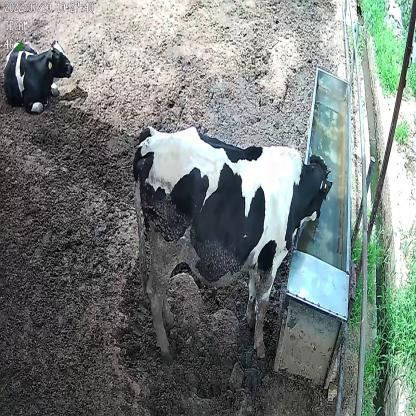cow: (132, 126, 333, 356), (3, 34, 78, 115)
